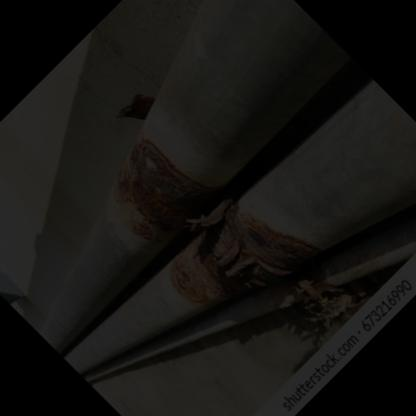burst: (118, 145, 203, 233), (202, 220, 283, 300)
